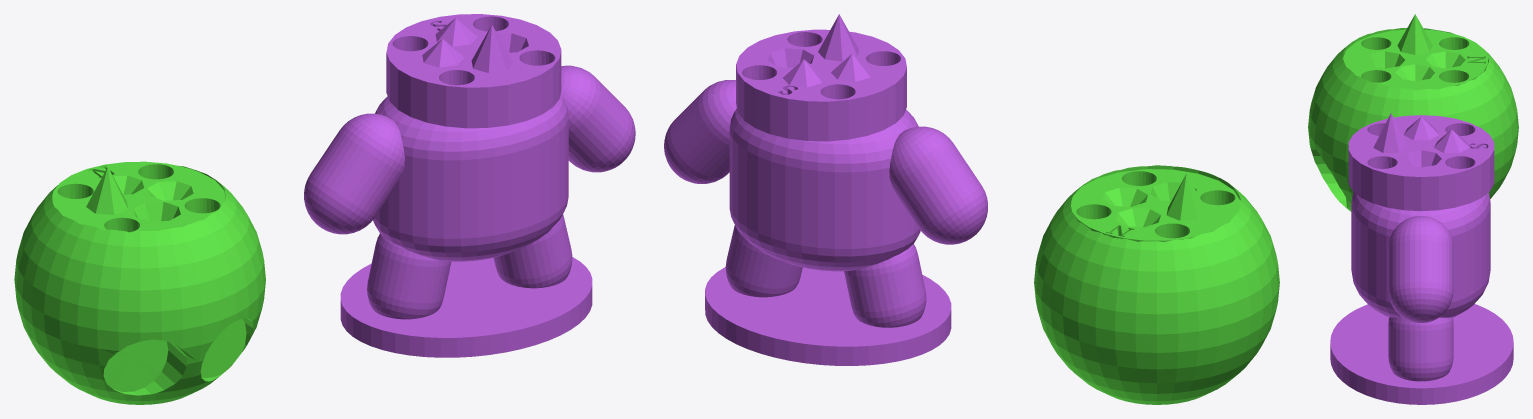
The picture shows the model from 3 angles, left to right: view 1: azimuth 30°, elevation 25°; view 2: azimuth 150°, elevation 25°; view 3: azimuth 270°, elevation 25°; orthographic projection. The views are drawn at different scales.
Parts seen in each view (by area): view 1: Simple Self Assembly (1), Simple Self Assembly (2); view 2: Simple Self Assembly (1), Simple Self Assembly (2); view 3: Simple Self Assembly (1), Simple Self Assembly (2).
Part boxes in pixels (x1,y1,x2,y2): Simple Self Assembly (1): (304, 14, 635, 357); Simple Self Assembly (2): (14, 161, 265, 404); Simple Self Assembly (1): (664, 14, 987, 365); Simple Self Assembly (2): (1034, 165, 1279, 404); Simple Self Assembly (1): (1330, 113, 1513, 404); Simple Self Assembly (2): (1308, 14, 1518, 211).
Size of the model in its own units: 63.73 by 29.9 by 23.
